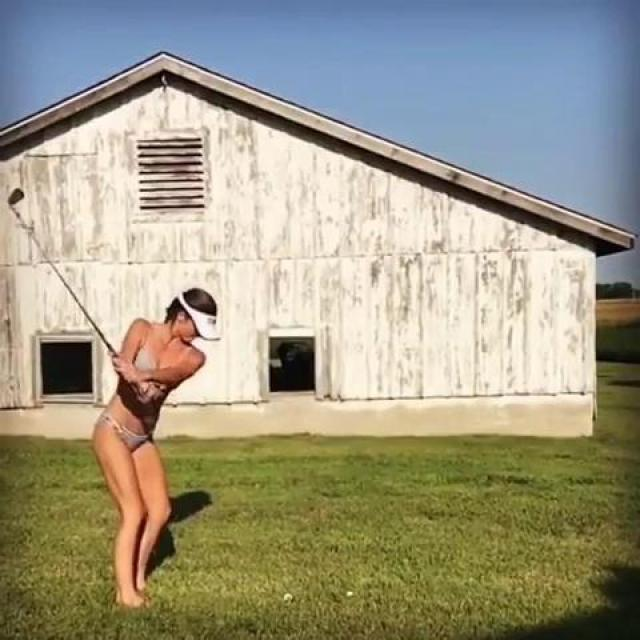golf ball: (279, 592, 295, 603)
golf club-handle: (4, 186, 161, 408)
golf club-head: (3, 185, 25, 207)
